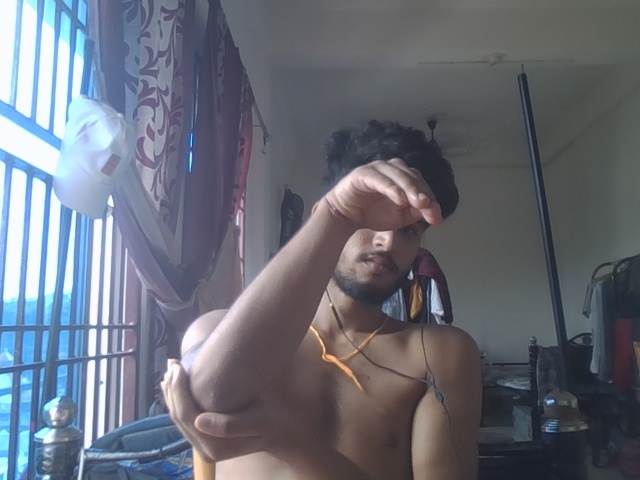Thulu: (165, 151, 453, 427)
